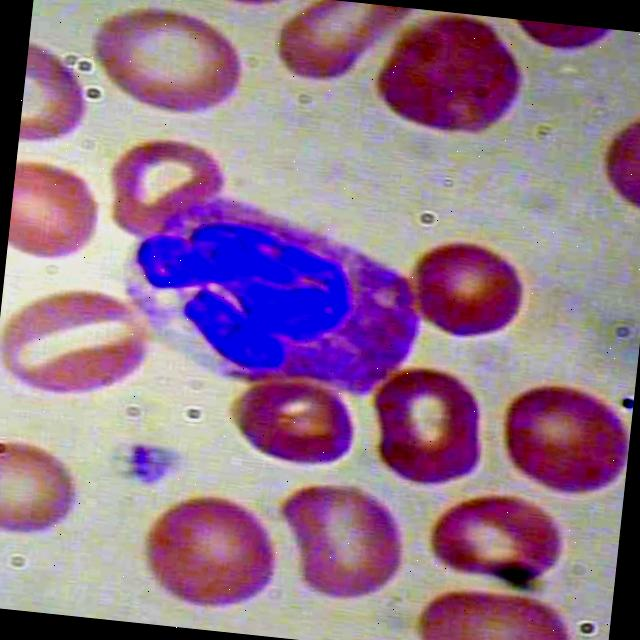RBC: (366, 4, 528, 148), (72, 0, 255, 122), (130, 484, 296, 618), (483, 364, 636, 506), (268, 472, 422, 613), (0, 275, 154, 404), (416, 484, 581, 594), (362, 362, 498, 492), (402, 226, 538, 356), (98, 124, 235, 250), (218, 369, 360, 478), (5, 156, 109, 268), (405, 577, 581, 640), (0, 433, 97, 545)
WBC: (112, 186, 438, 430)
